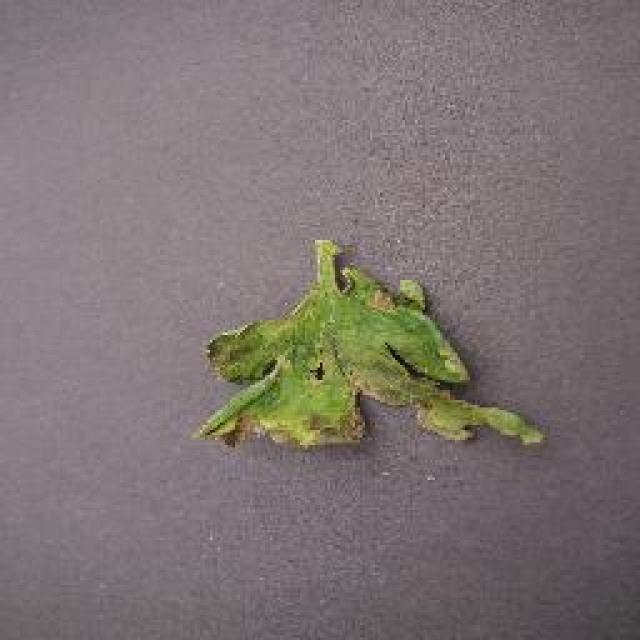Tomato___Late_blight: (190, 240, 545, 452)
